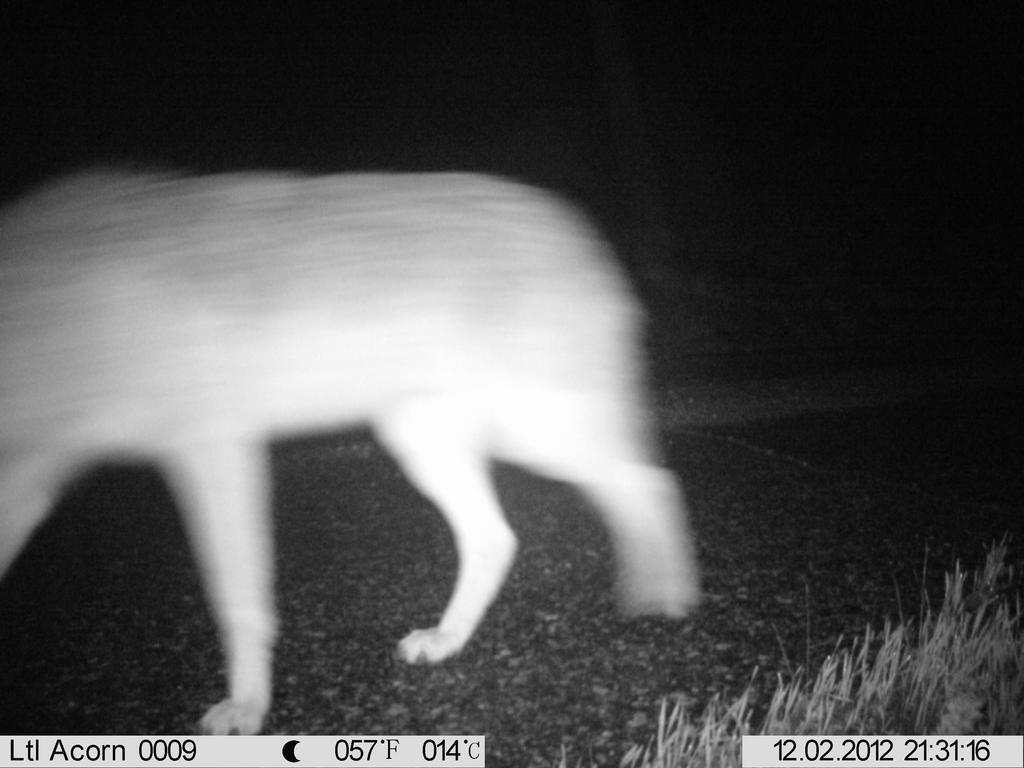coyote: (2, 145, 731, 735)
